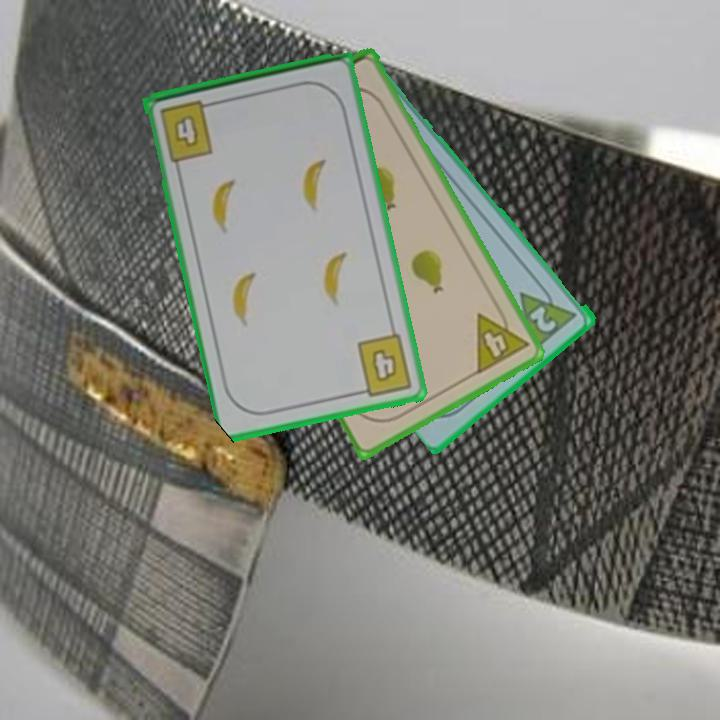2p: (516, 276, 581, 354)
4b: (352, 330, 416, 399), (156, 96, 219, 165)
4p: (473, 300, 532, 378)
